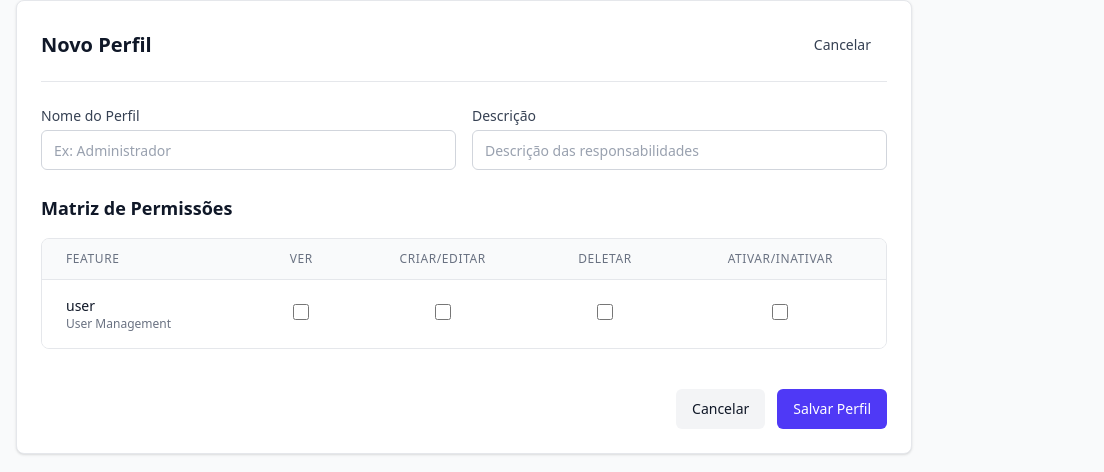
Test: RoleFormPage › handles submission error with message
Type "Admin" into the field labelled "Nome do Perfil" at point(248, 150), box [41,130,456,170]
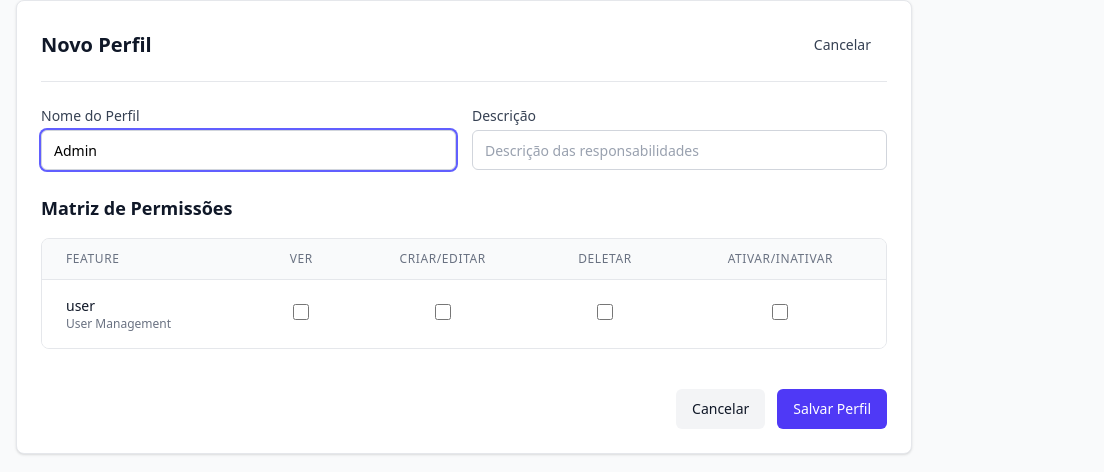
Type "Desc" into the field labelled "Descrição" at point(680, 150), box [472,130,887,170]
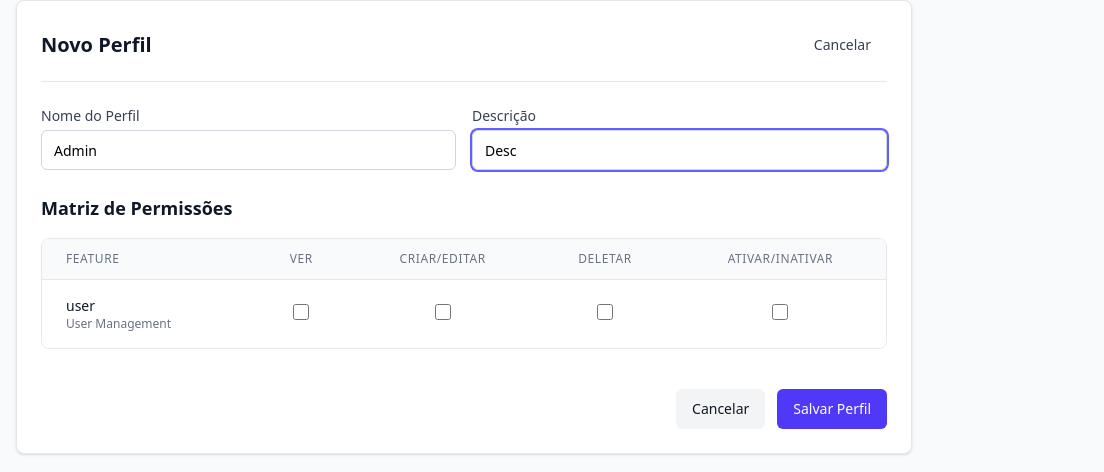
Click the button "Salvar Perfil" at point(832, 409), box [777,389,887,429]
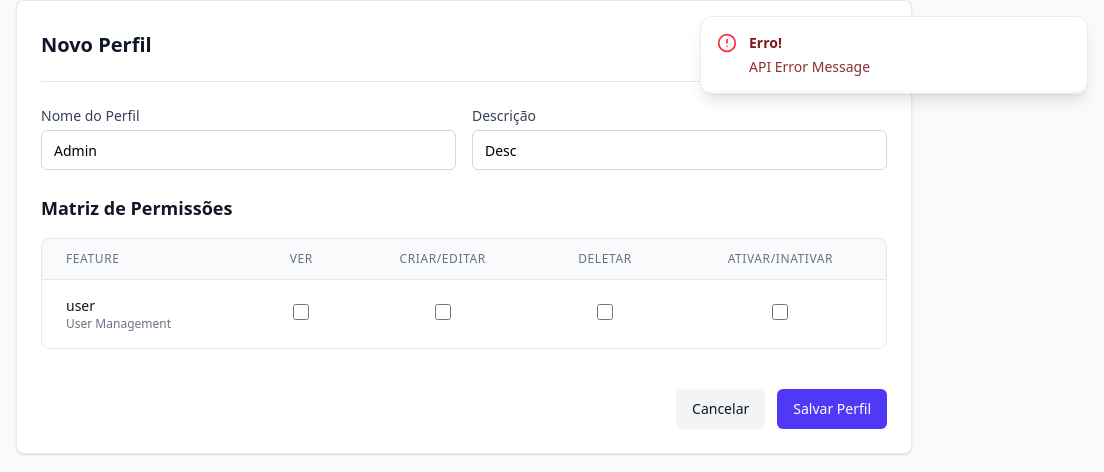
Now the text "API Error Message" is shown, box [749,57,870,77]
